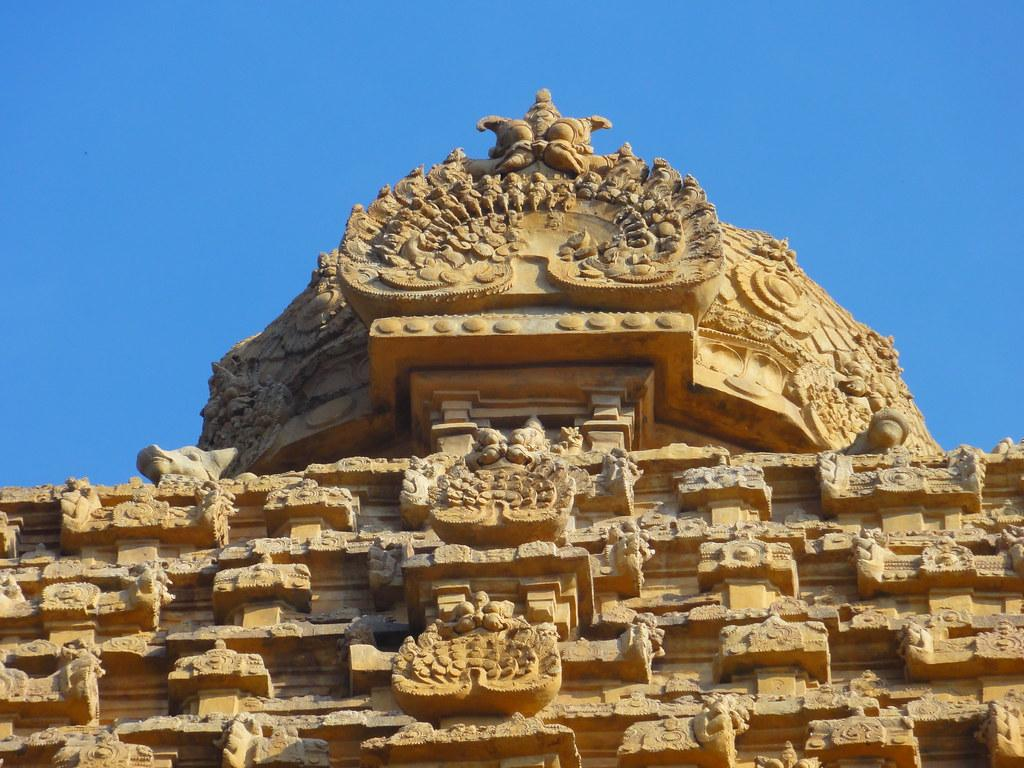temple: (2, 87, 1022, 767)
